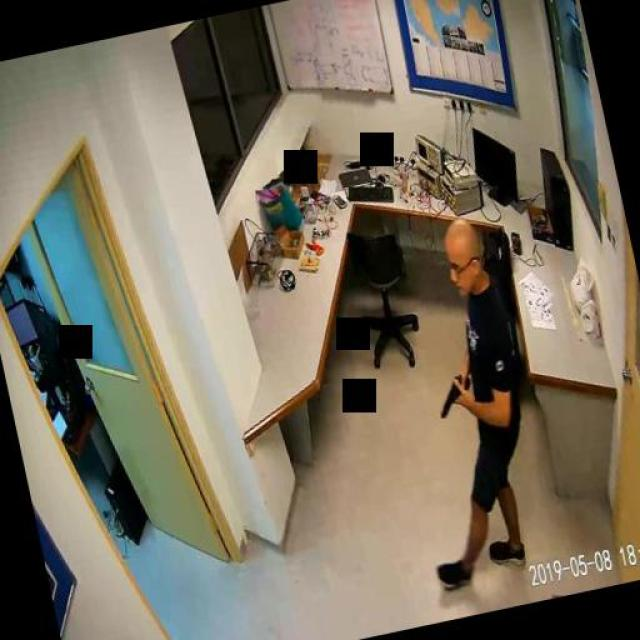gun: (428, 370, 478, 424)
